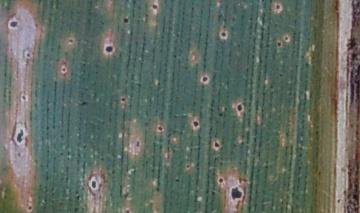tarspot: (227, 185, 244, 201), (15, 127, 25, 148), (7, 17, 20, 30), (272, 1, 284, 15), (19, 91, 29, 105), (104, 43, 115, 55), (87, 179, 100, 189), (234, 102, 245, 113), (25, 202, 36, 213), (121, 15, 131, 27), (211, 138, 221, 150), (133, 138, 143, 150), (218, 30, 229, 40), (155, 123, 165, 134), (274, 39, 284, 50), (200, 73, 209, 84), (116, 95, 129, 102), (191, 119, 200, 129), (216, 176, 227, 184), (171, 176, 182, 184), (59, 64, 67, 75), (150, 2, 158, 12), (182, 162, 192, 169), (66, 38, 75, 45), (25, 51, 32, 60)
